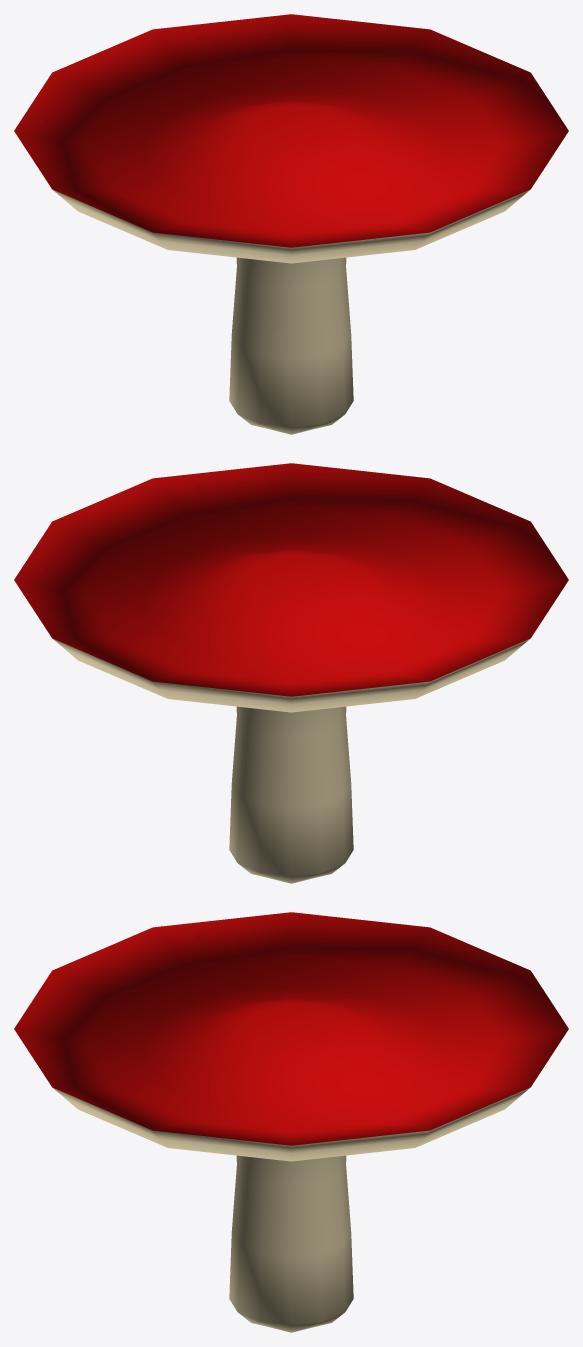
File: amanita.glb
3 views of the same model, one above another, from view 1: azimuth 30°, elevation 25°; view 2: azimuth 150°, elevation 25°; view 3: azimuth 270°, elevation 25° (orthographic).
Parts seen in each view (by area): view 1: amanita; view 2: amanita; view 3: amanita.
Part boxes in pixels (box(x1,y1,x2,y2)): amanita: box(14, 14, 568, 434); amanita: box(14, 463, 568, 883); amanita: box(14, 912, 568, 1332).
Bounding box in the file's own units: 1.82 × 1.07 × 1.82.
1 material, 1 textured.
